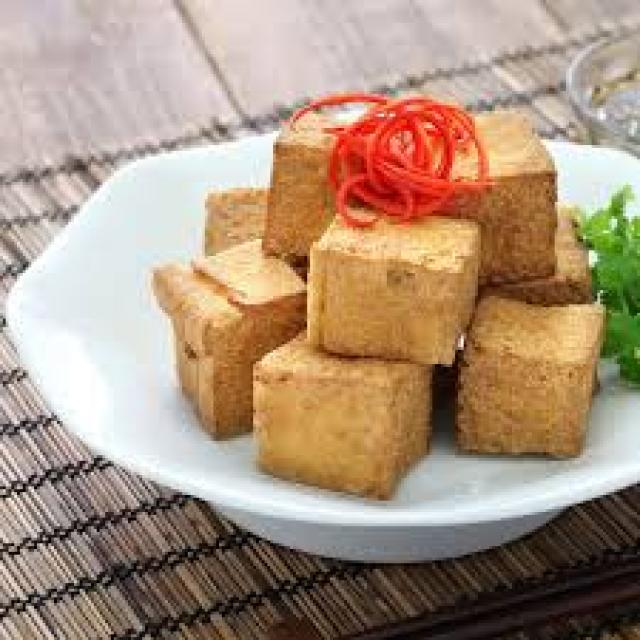tahu: (249, 94, 579, 371), (144, 237, 396, 438), (166, 171, 408, 322), (249, 302, 436, 489), (415, 106, 586, 290), (448, 266, 616, 445), (310, 192, 480, 364)
